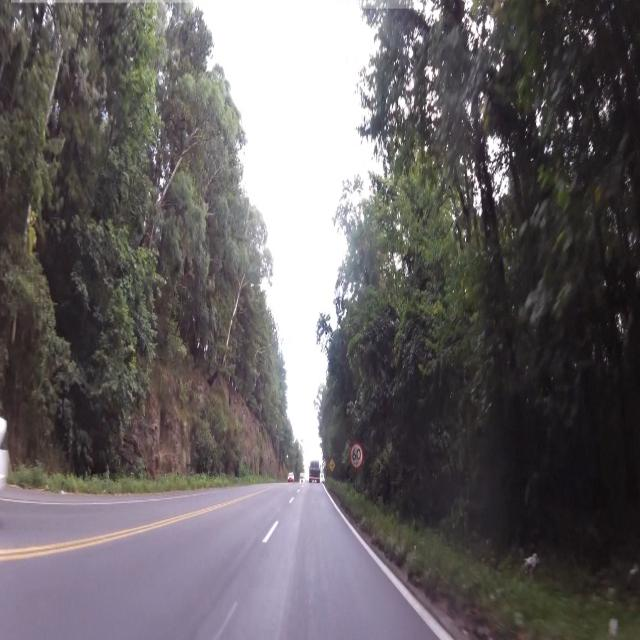R-19: (350, 440, 363, 472)
